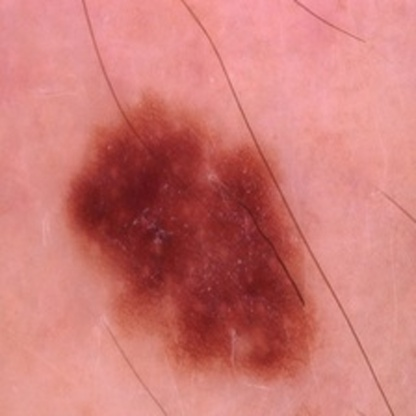benign: (80, 124, 325, 362)
